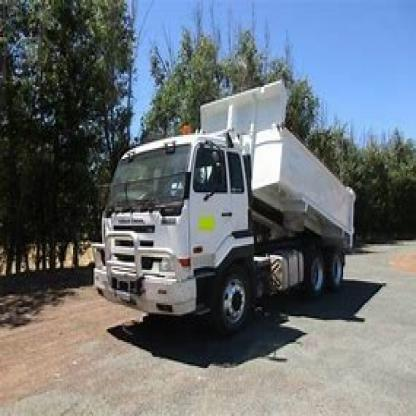dump_truck: (89, 80, 380, 335)
